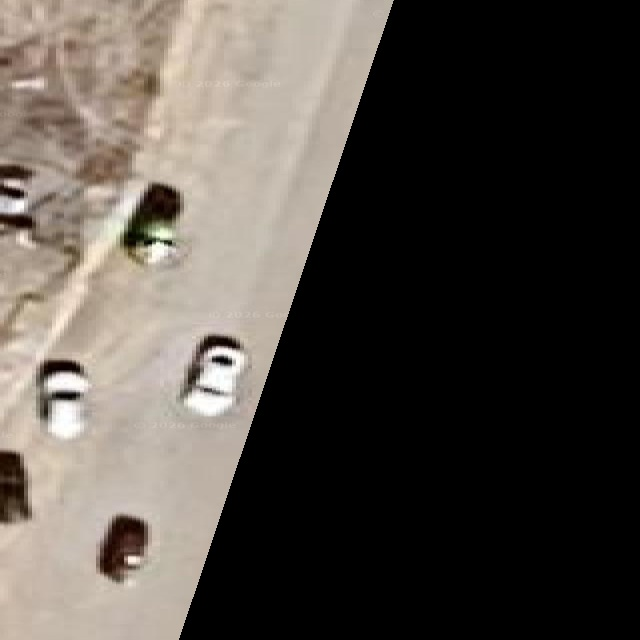car: (182, 336, 247, 416), (124, 183, 181, 264), (39, 361, 88, 439), (98, 515, 149, 584), (0, 164, 34, 246), (0, 451, 30, 523), (0, 164, 32, 216)
